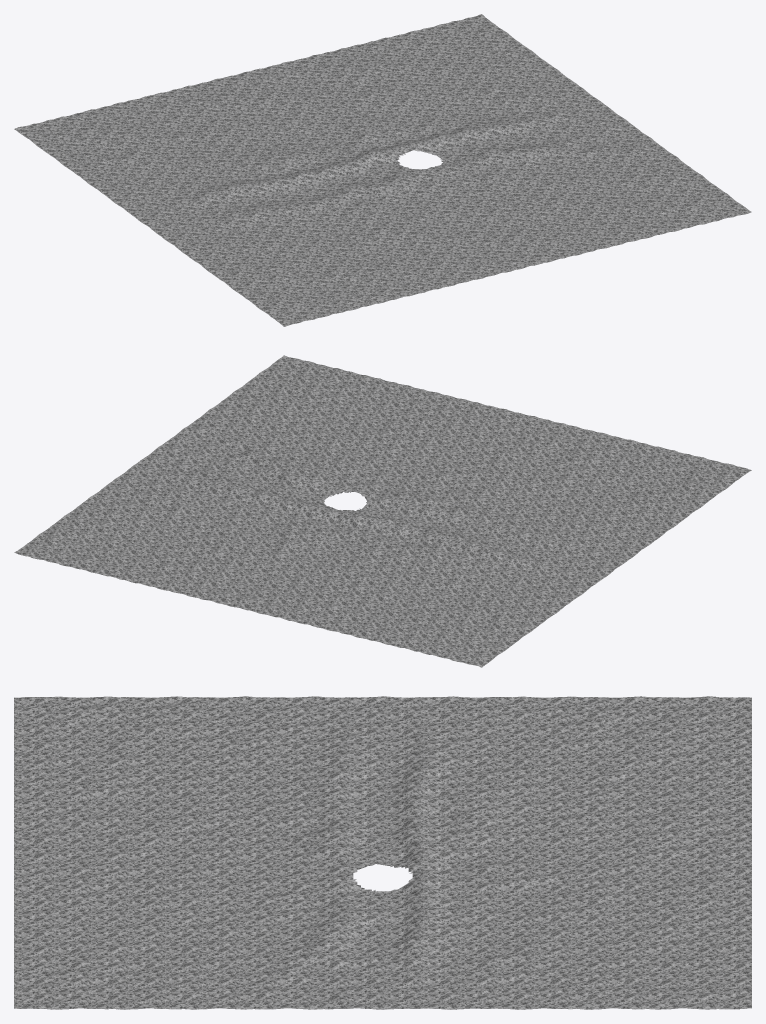
File: ground.dae
3 views of the same model, one above another, from view 1: azimuth 30°, elevation 25°; view 2: azimuth 150°, elevation 25°; view 3: azimuth 270°, elevation 25° (orthographic). The views are drawn at different scales.
Visible parts, largest first — view 1: Terrain; view 2: Terrain; view 3: Terrain.
Boxes of the visible parts, x1,y1,x2,y2 form: Terrain: (14,14,751,326); Terrain: (14,355,751,667); Terrain: (14,696,751,1009).
Bounding box in the file's own units: 100 × 100 × 1.1.
Materials: 1 (1 with a texture image).
